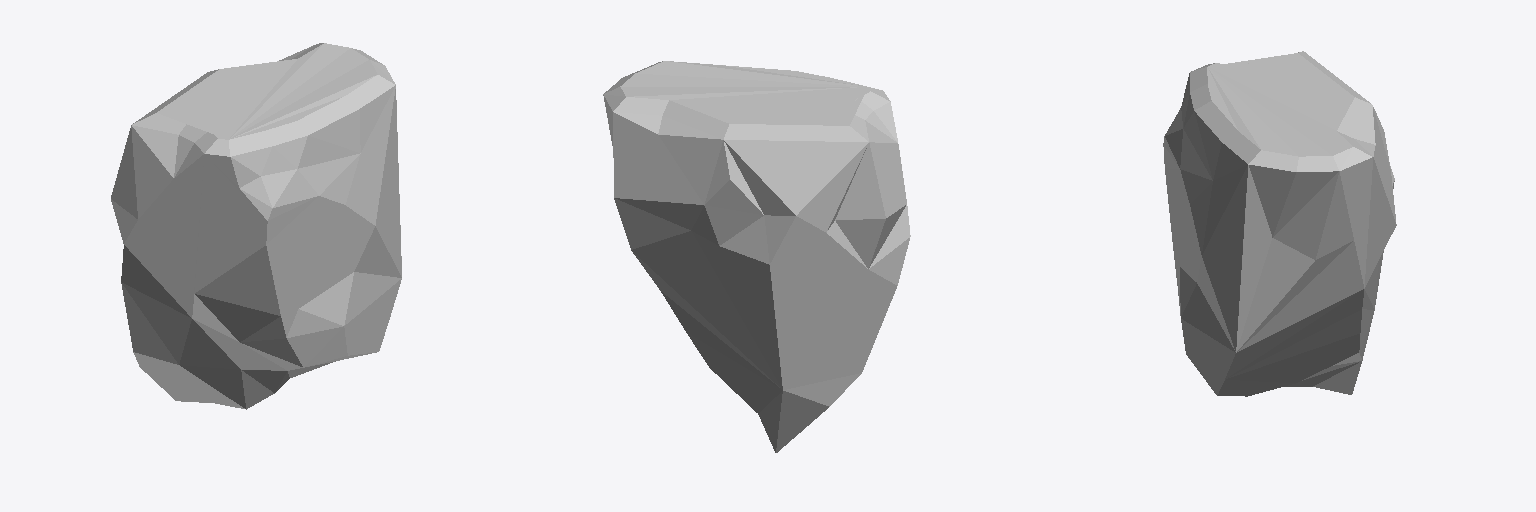
File: Rock3Platform.obj
3 views of the same model, side by side, from view 1: azimuth 30°, elevation 25°; view 2: azimuth 150°, elevation 25°; view 3: azimuth 270°, elevation 25° (orthographic).
Visible parts, largest first — view 1: Rock_3.003_Icosphere.017; view 2: Rock_3.003_Icosphere.017; view 3: Rock_3.003_Icosphere.017.
Part boxes in pixels (x1,y1,x2,y2): Rock_3.003_Icosphere.017: (111,43,401,409); Rock_3.003_Icosphere.017: (603,61,910,452); Rock_3.003_Icosphere.017: (1163,51,1396,396).
Bounding box in the file's own units: 7.34 × 8.21 × 5.39.